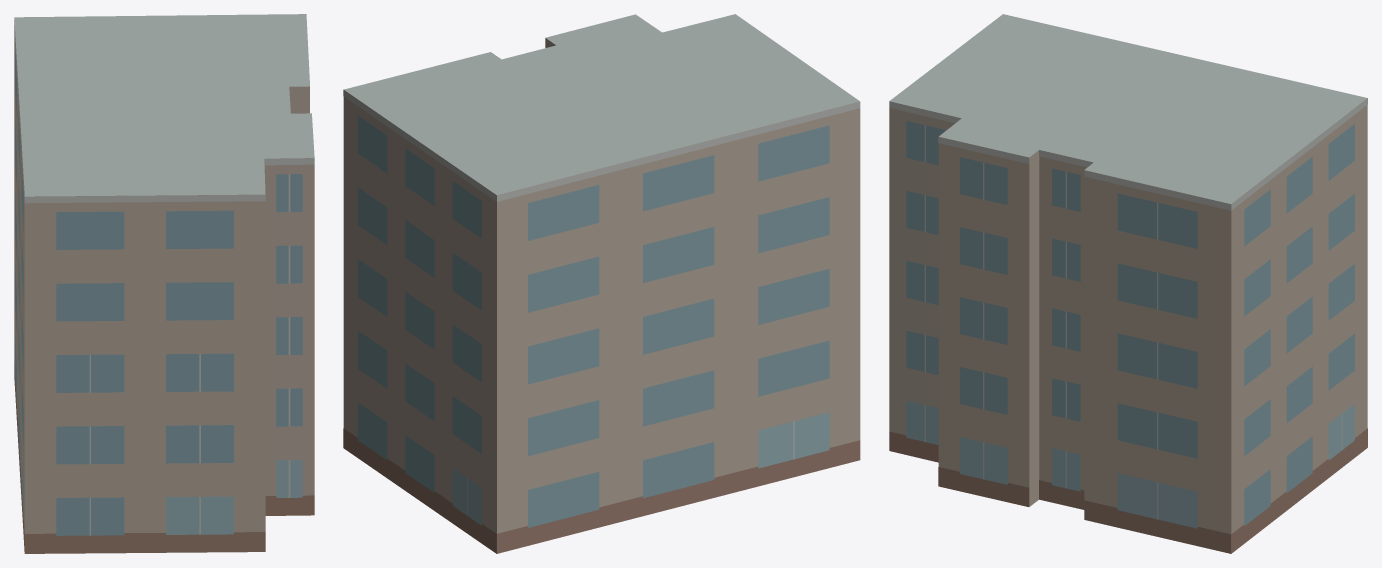
Rendered from survey-upis-32657230.glb.
3 views of the same model, side by side, from view 1: azimuth 30°, elevation 25°; view 2: azimuth 150°, elevation 25°; view 3: azimuth 270°, elevation 25° (orthographic). The views are drawn at different scales.
Parts seen in each view (by area): view 1: survey-upis-32657230.tmp; view 2: survey-upis-32657230.tmp; view 3: survey-upis-32657230.tmp.
Part boxes in pixels (bbox=[...]): survey-upis-32657230.tmp: bbox=[14, 14, 314, 553]; survey-upis-32657230.tmp: bbox=[343, 14, 860, 553]; survey-upis-32657230.tmp: bbox=[889, 14, 1367, 553].
Bounding box in the file's own units: 15.29 × 13.1 × 16.26.
